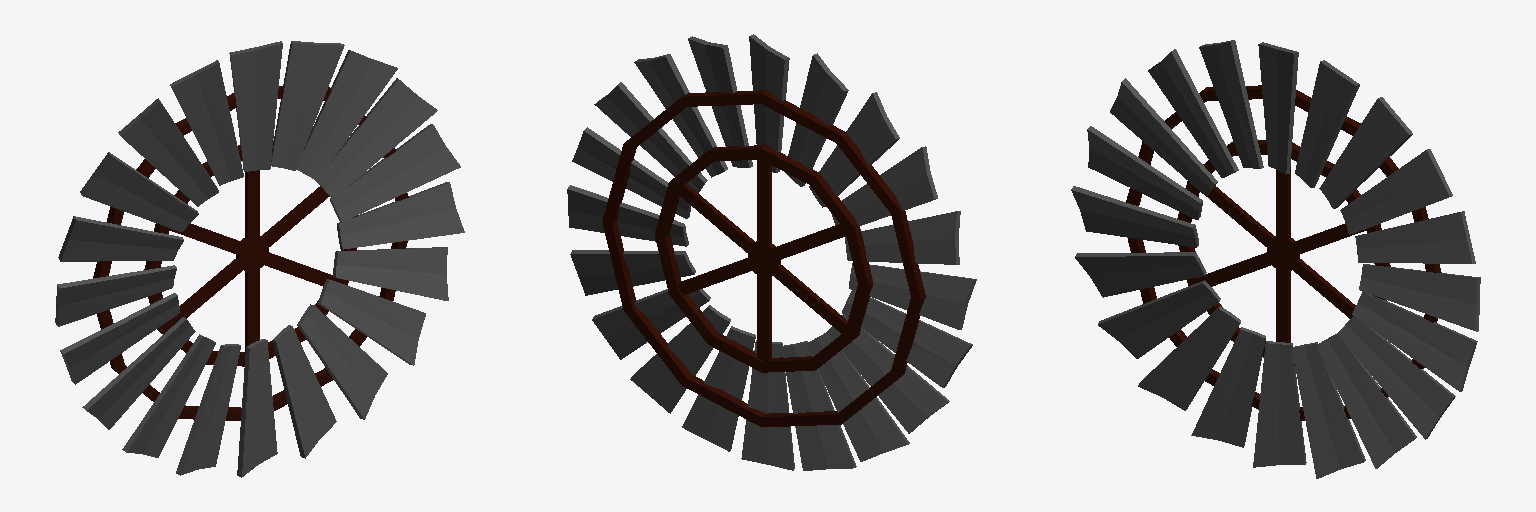
Rendered from Windmill_Blades_Cube.obj.
3 renders of one model, left to right at view 1: azimuth 30°, elevation 25°; view 2: azimuth 150°, elevation 25°; view 3: azimuth 330°, elevation 25°, orthographic.
Visible parts, largest first — view 1: Windmill_Blades_Cube.001; view 2: Windmill_Blades_Cube.001; view 3: Windmill_Blades_Cube.001.
Part boxes in pixels (x1,y1,x2,y2): Windmill_Blades_Cube.001: (55, 41, 464, 477); Windmill_Blades_Cube.001: (567, 34, 976, 470); Windmill_Blades_Cube.001: (1071, 40, 1480, 478).
Size of the model in its own units: 4.52 by 4.52 by 0.25.